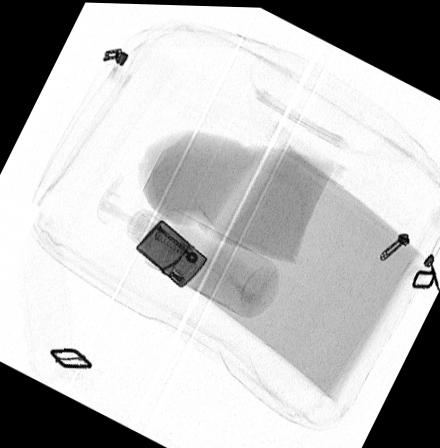Lighter: (134, 217, 208, 286)
